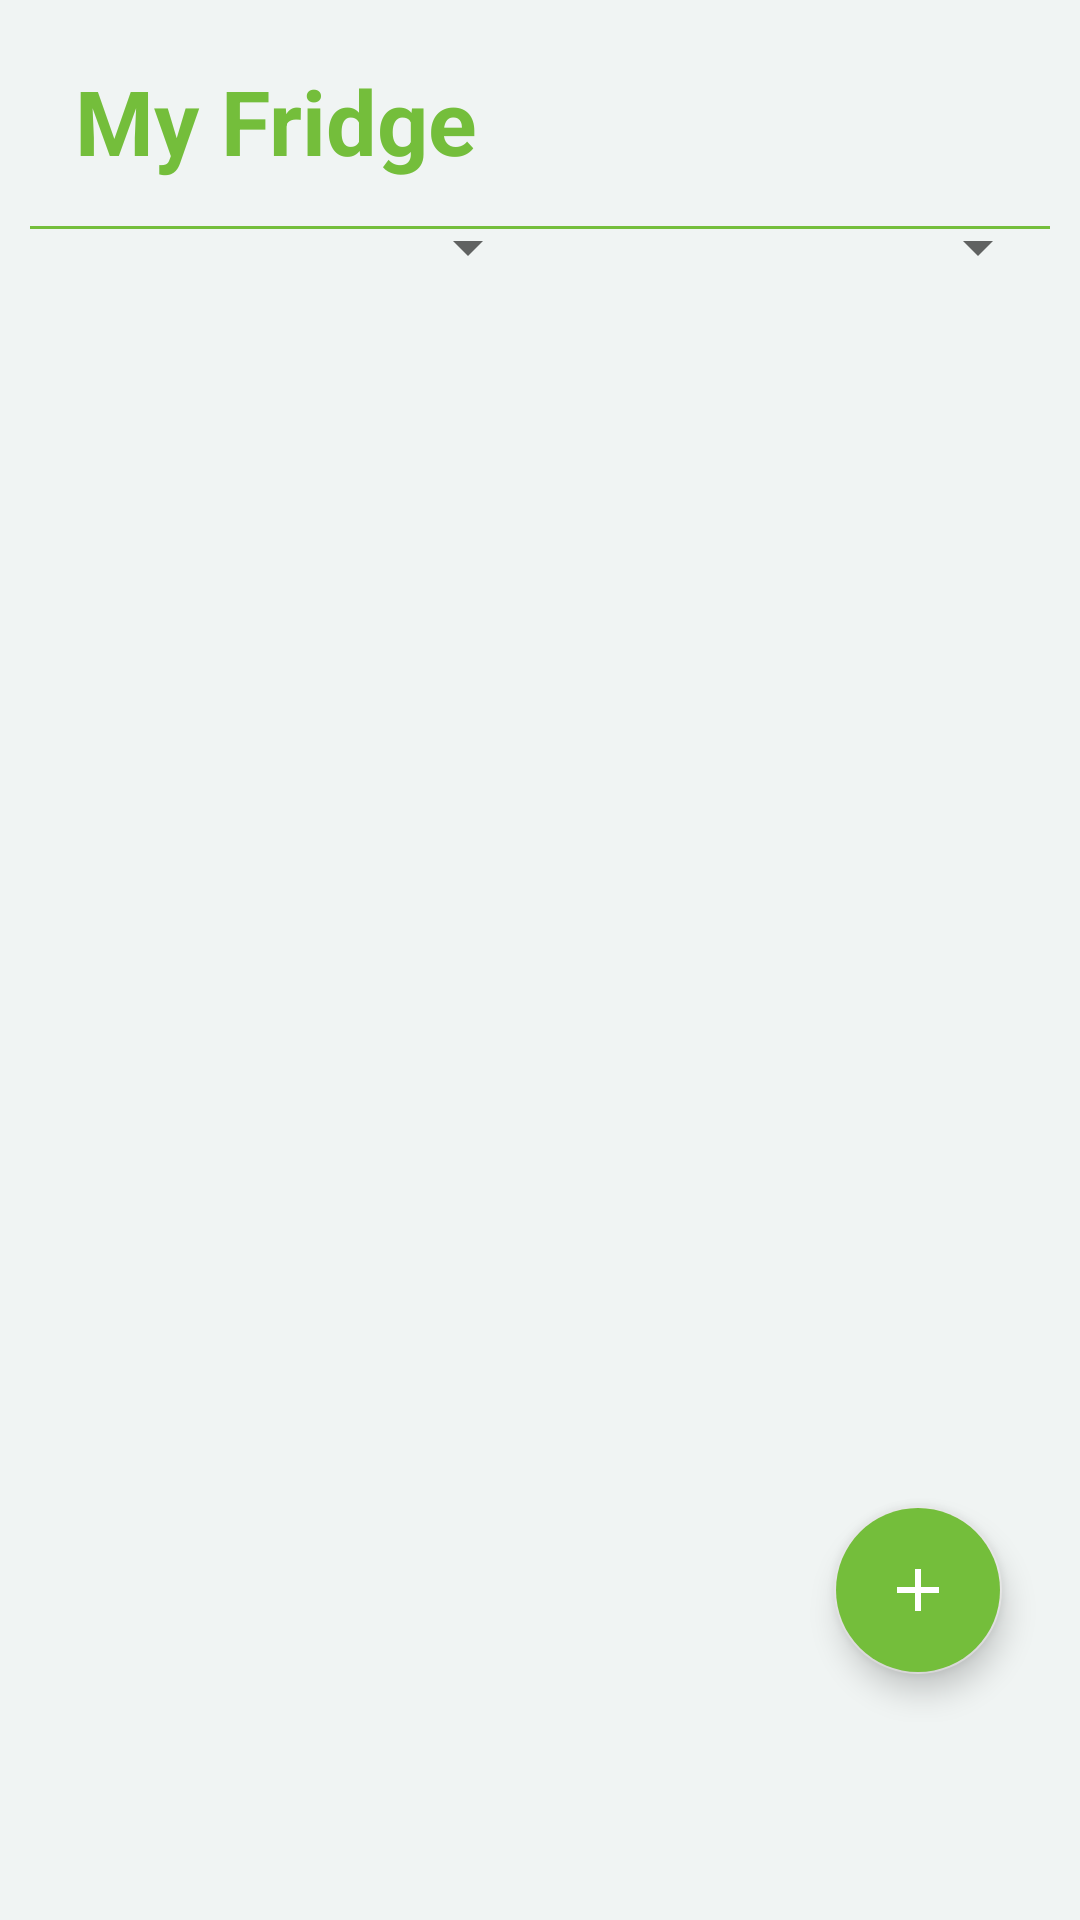

Icons on this 1080 × 1920 Android screen, each with its box as (x1, y1, x2, y2):
add: (836, 1508, 1002, 1674)
